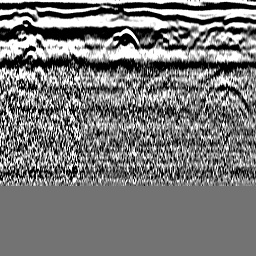cavity: (115, 26, 139, 48)
